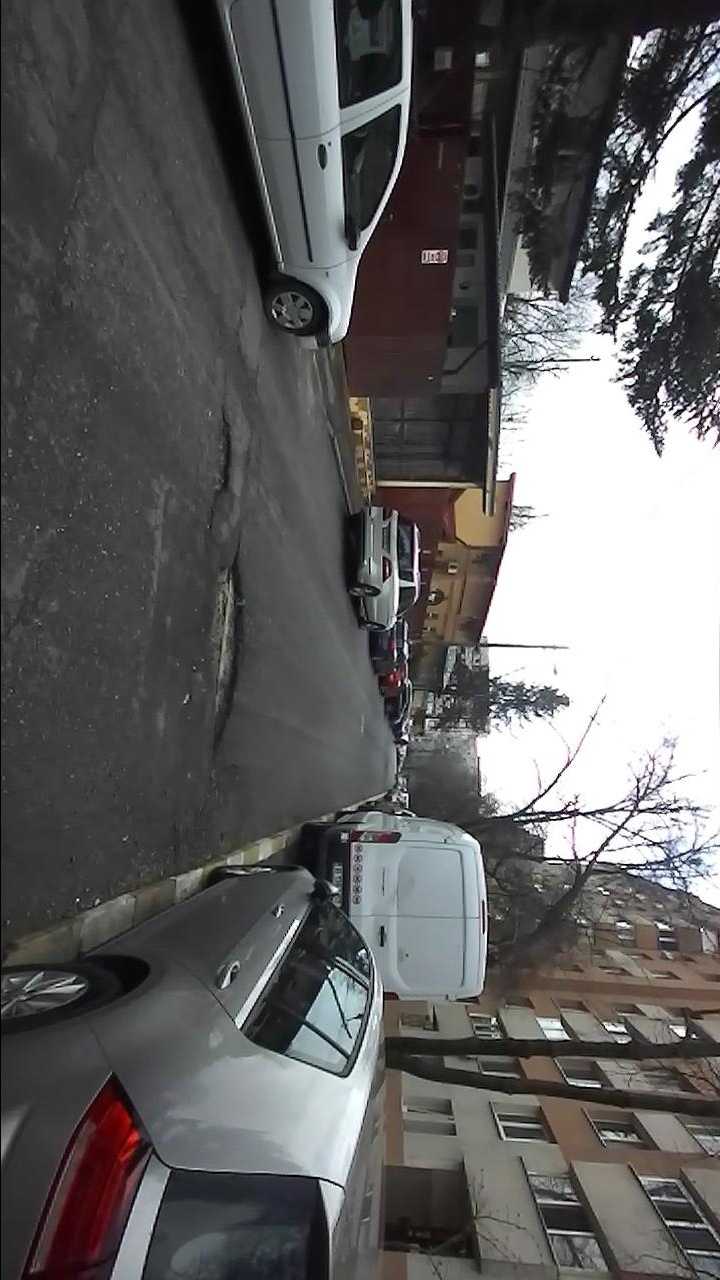pothole: (202, 531, 249, 762), (206, 404, 235, 530)
